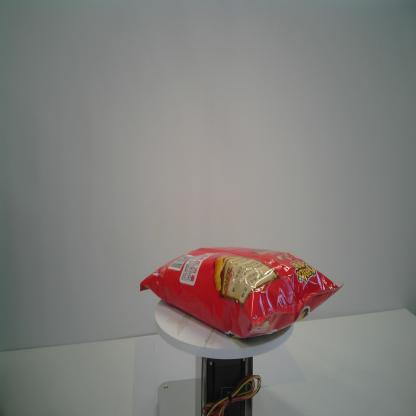Puffed Food: (140, 246, 345, 340)
